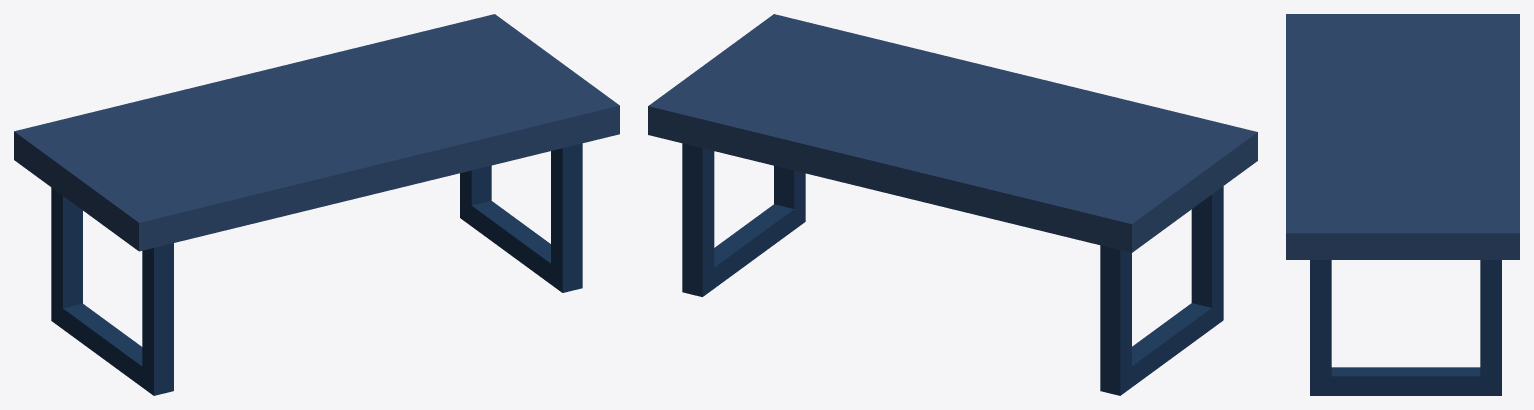
The model's file is table01.fbx.
3 renders of one model, left to right at view 1: azimuth 30°, elevation 25°; view 2: azimuth 150°, elevation 25°; view 3: azimuth 270°, elevation 25°, orthographic. The views are drawn at different scales.
Visible parts, largest first — view 1: polySurface190; view 2: polySurface190; view 3: polySurface190.
Boxes of the visible parts, x1,y1,x2,y2 form: polySurface190: (14,14,619,395); polySurface190: (648,14,1257,395); polySurface190: (1286,14,1519,395).
Size of the model in its own units: 35.25 by 13.04 by 15.89.
1 material, 1 textured.
